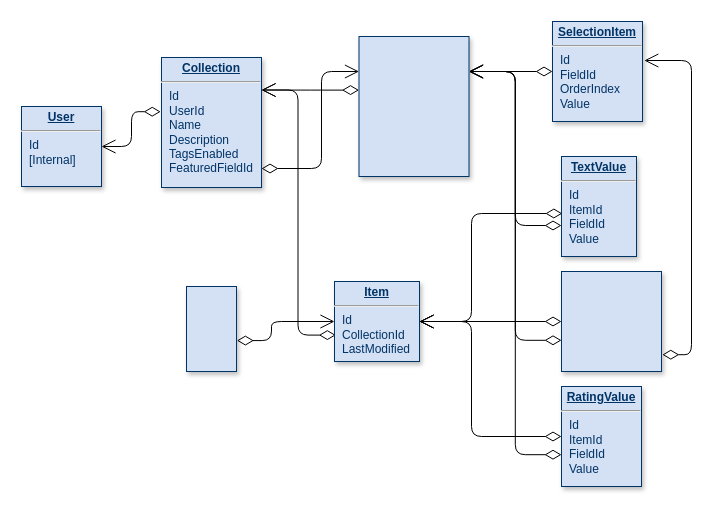
Some shapes in this 726 by 511 pixel diagram are drawn without their labels. Here are the shapes that lost their labels. From the top down, the centre of each, then its label:
At (414,108): "Field Id CollectionId OrderIndex Type Required ShowOnFeatured ShowOnList".
At (212,330): "Tag Id ItemId Value".
At (612,322): "SelectionValue Id ItemId FieldId SelectionItemId".
